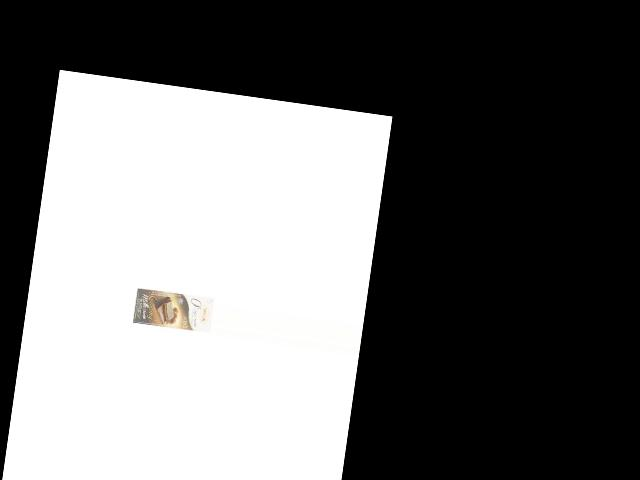chocolate: (131, 285, 214, 334)
